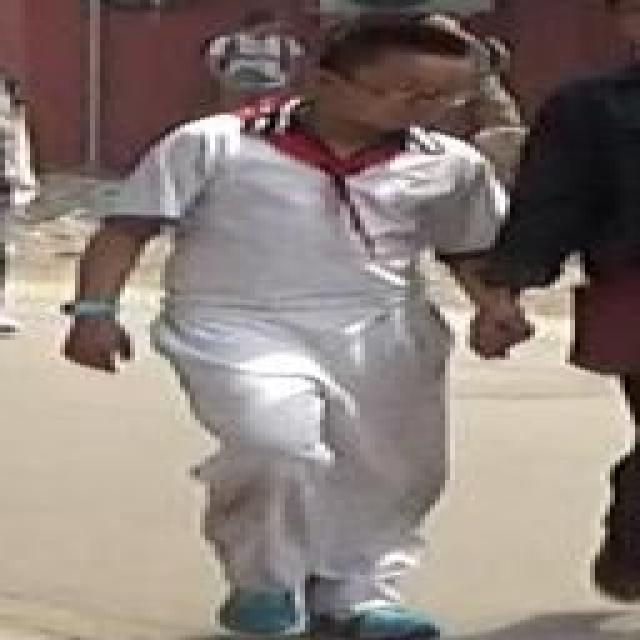child: (72, 35, 512, 630)
